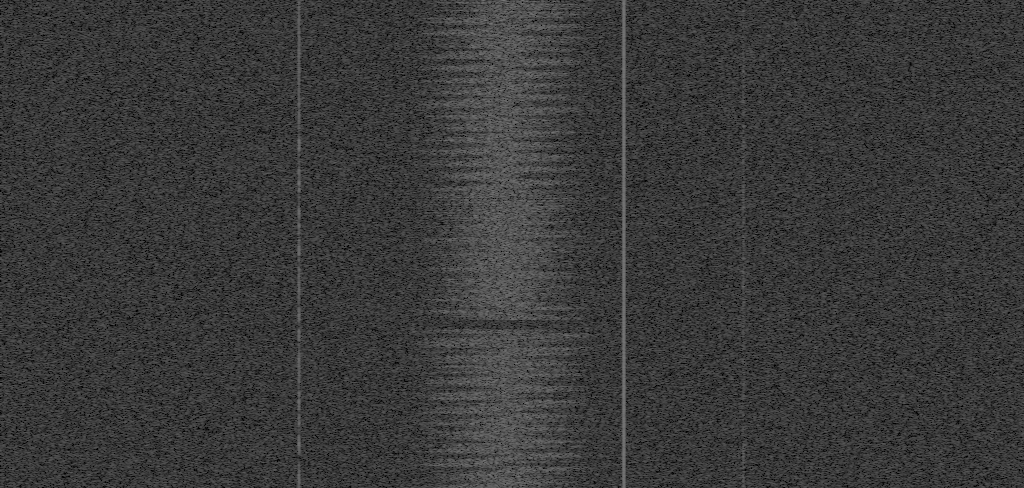wv_am: (293, 0, 305, 326), (296, 327, 302, 458), (296, 460, 302, 488)
wv_cw: (613, 0, 634, 488)
wv_usb: (741, 34, 748, 488), (741, 16, 747, 33), (741, 6, 747, 15)
wv_wbfm: (402, 0, 610, 320), (396, 329, 612, 488)
